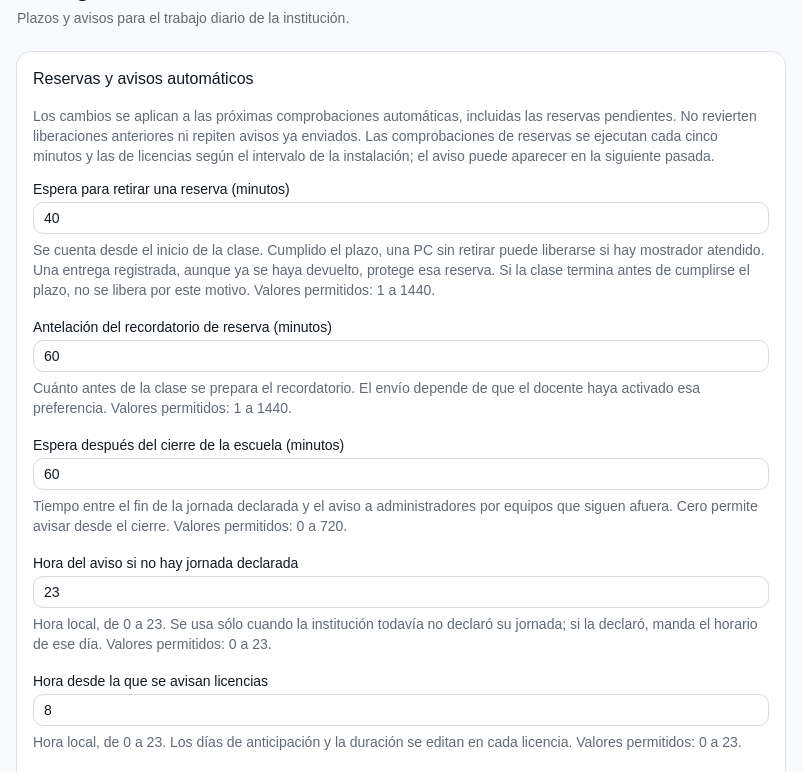
guarda un plazo nuevo junto a su versión y muestra cuándo se aplica
Replace the text in the number field labelled "Espera para retirar una reserva (minutos)" with "10" at [401, 218], box x1=33 y1=202 x2=769 y2=234
(page scrolled)
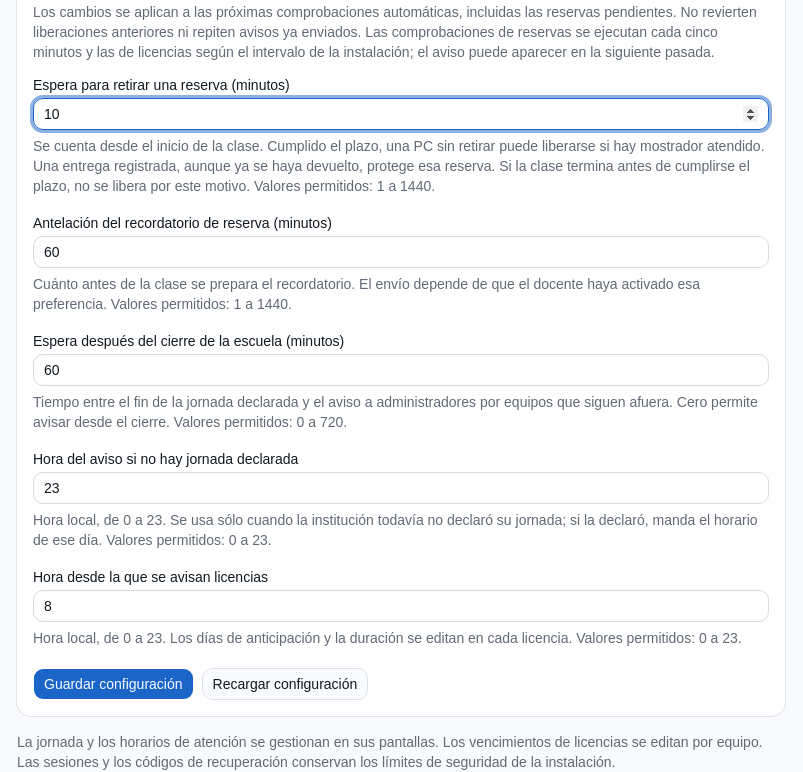
Click the button "Guardar configuración" at [113, 684], box x1=33 y1=668 x2=194 y2=700
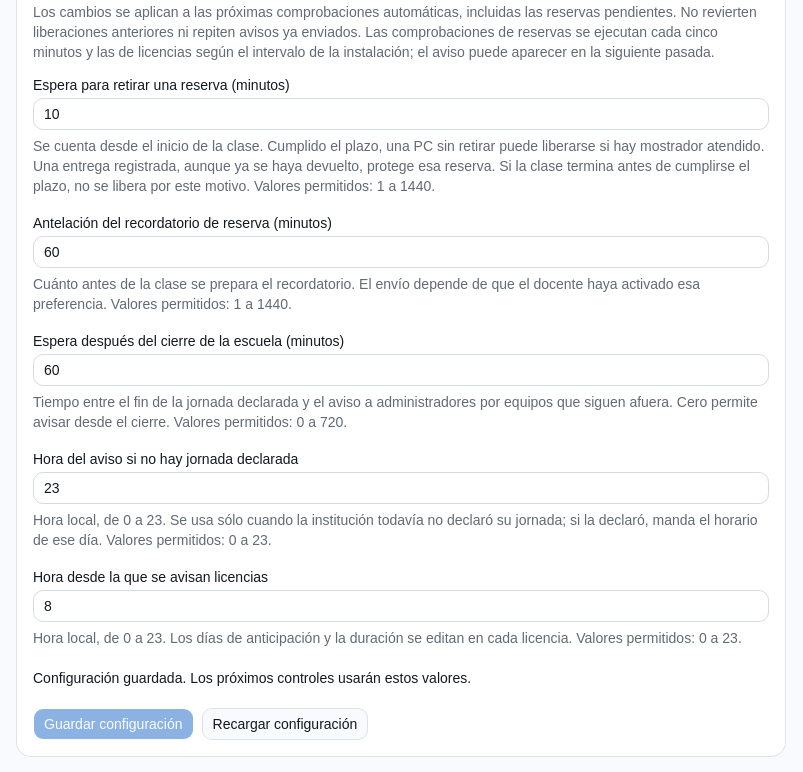
Expected: the text "Configuración guardada. Los próximos controles usarán estos valores." is shown, x1=33 y1=670 x2=471 y2=686
Expected: the button "Guardar configuración" is disabled, x1=33 y1=708 x2=194 y2=740
